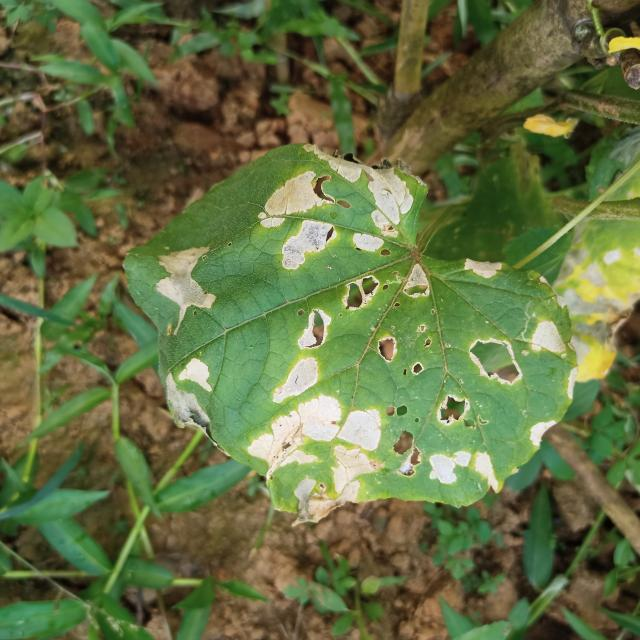disease_cucumber: (150, 142, 546, 510)
